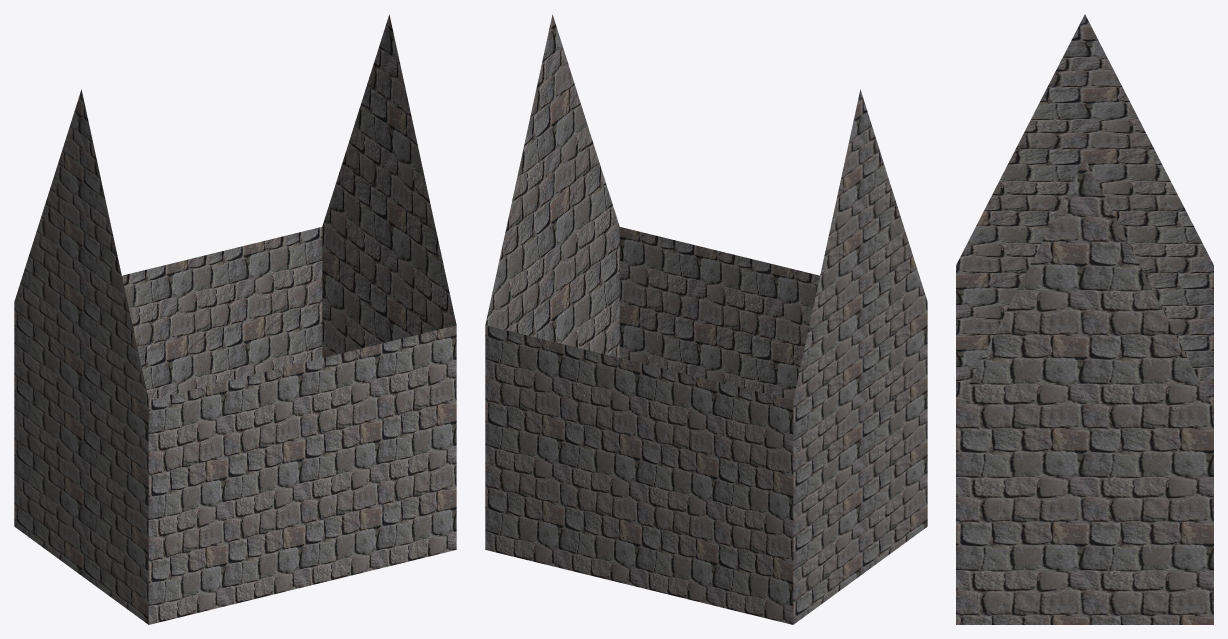
3 views of the same model, side by side, from view 1: azimuth 30°, elevation 25°; view 2: azimuth 150°, elevation 25°; view 3: azimuth 270°, elevation 25° (orthographic). The views are drawn at different scales.
Visible parts, largest first — view 1: 별관_몸통; view 2: 별관_몸통; view 3: 별관_몸통.
Boxes of the visible parts, x1,y1,x2,y2 form: 별관_몸통: (14, 14, 456, 624); 별관_몸통: (485, 14, 927, 624); 별관_몸통: (956, 14, 1213, 624).
Size of the model in its own units: 305 by 461 by 231.
